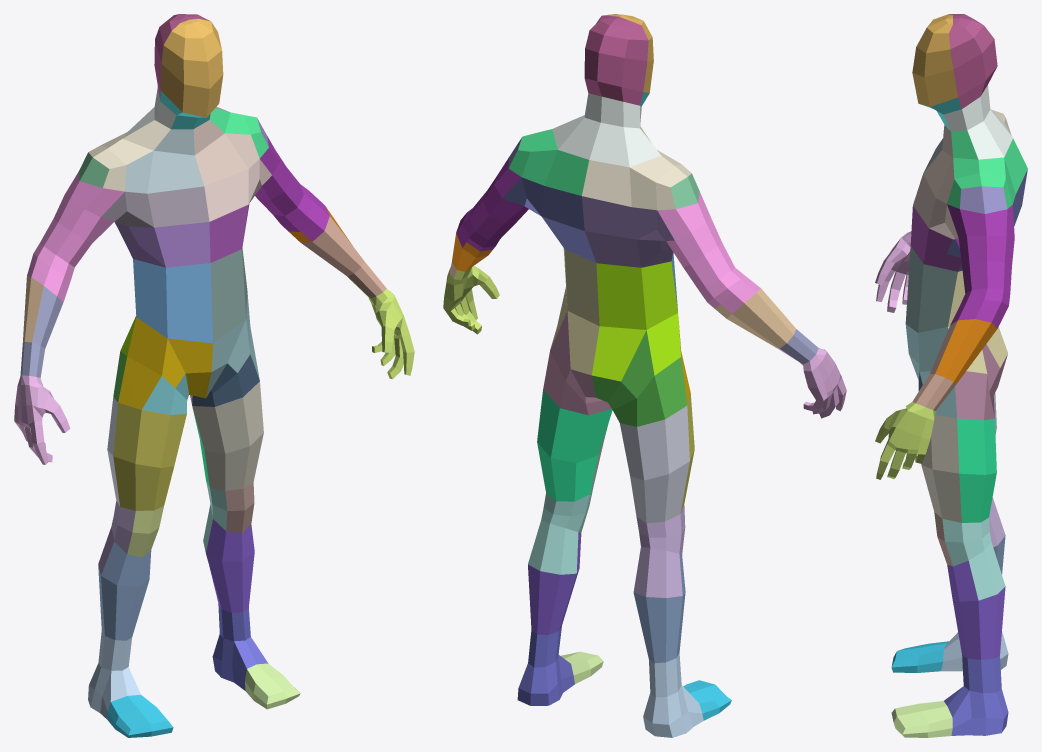
Rendered from CHOIRZONE.glb.
3 views of the same model, side by side, from view 1: azimuth 30°, elevation 25°; view 2: azimuth 150°, elevation 25°; view 3: azimuth 270°, elevation 25° (orthographic).
Parts seen in each view (by area): view 1: front_left_thigh, front_left_upper_abdomen, back_left_upper_arm, front_right_thigh, front_left_lower_abdomen, front_head, back_left_shin, front_left_shoulder, back_right_upper_arm, back_right_shin, front_left_upper_chest, front_left_lower_chest (+26 smaller); view 2: back_left_lower_back, back_left_thigh, back_right_thigh, back_left_upper_arm, back_neck, back_left_mid_back, back_head, back_left_buttocks, back_left_upper_back, back_right_lower_back, back_left_knee, back_right_knee (+16 smaller); view 3: back_right_upper_arm, back_right_foot, back_right_shin, back_right_thigh, back_right_upper_back, back_head, front_right_thigh, front_head, front_right_upper_abdomen, front_right_hand, back_right_knee, back_neck (+17 smaller).
Boxes of the visible parts, x1=… form: front_left_thigh: x1=113, y1=402, x2=186, y2=510; front_left_upper_abdomen: x1=133, y1=259, x2=212, y2=343; back_left_upper_arm: x1=27, y1=171, x2=124, y2=302; front_right_thigh: x1=192, y1=381, x2=263, y2=490; front_left_lower_abdomen: x1=118, y1=317, x2=212, y2=409; front_head: x1=161, y1=18, x2=223, y2=117; back_left_shin: x1=98, y1=541, x2=151, y2=640; front_left_shoulder: x1=125, y1=129, x2=203, y2=193; back_right_upper_arm: x1=255, y1=136, x2=329, y2=241; back_right_shin: x1=206, y1=519, x2=254, y2=612; front_left_upper_chest: x1=101, y1=186, x2=209, y2=227; front_left_lower_chest: x1=125, y1=222, x2=210, y2=267; back_left_lower_back: x1=592, y1=261, x2=680, y2=381; back_left_thigh: x1=620, y1=406, x2=689, y2=523; back_right_thigh: x1=537, y1=390, x2=612, y2=501; back_left_upper_arm: x1=657, y1=192, x2=760, y2=313; back_neck: x1=552, y1=93, x2=660, y2=167; back_left_mid_back: x1=582, y1=196, x2=674, y2=267; back_head: x1=584, y1=15, x2=648, y2=105; back_left_buttocks: x1=592, y1=330, x2=687, y2=426; back_left_upper_back: x1=582, y1=126, x2=691, y2=210; back_right_lower_back: x1=550, y1=248, x2=599, y2=375; back_left_knee: x1=633, y1=504, x2=685, y2=597; back_right_knee: x1=528, y1=485, x2=593, y2=574; back_right_upper_arm: x1=947, y1=204, x2=1014, y2=328; back_right_foot: x1=944, y1=655, x2=1008, y2=735; back_right_shin: x1=947, y1=561, x2=1005, y2=659; back_right_thigh: x1=957, y1=418, x2=996, y2=522; back_right_upper_back: x1=947, y1=130, x2=1027, y2=208; back_head: x1=949, y1=14, x2=997, y2=108; front_right_thigh: x1=921, y1=414, x2=961, y2=522; front_head: x1=912, y1=14, x2=957, y2=106; front_right_upper_abdomen: x1=905, y1=246, x2=957, y2=332; front_right_hand: x1=875, y1=402, x2=935, y2=479; back_right_knee: x1=942, y1=518, x2=1005, y2=600; back_neck: x1=944, y1=85, x2=1012, y2=159.
Size of the model in its own units: 276 by 473 by 96.77.
